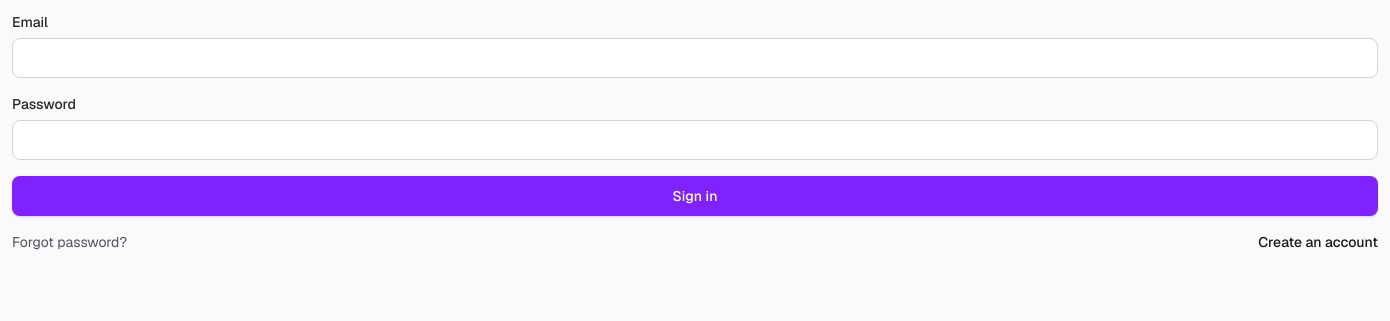
Scenario: LoginForm › shows the server message and clears the password on failure
In the field labelled "Email": [695, 58] box [12,38,1378,78], type "a@example.com"
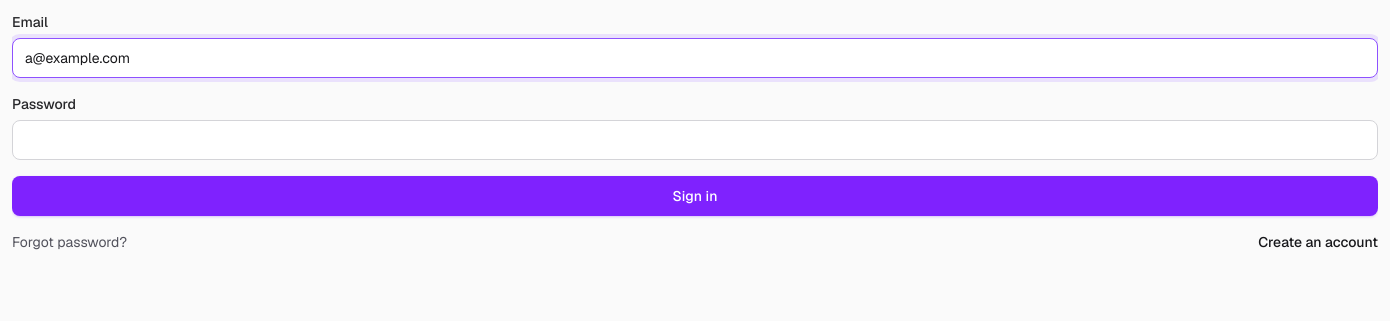
In the password field labelled "Password": [695, 140] box [12,120,1378,160], type "wrong"
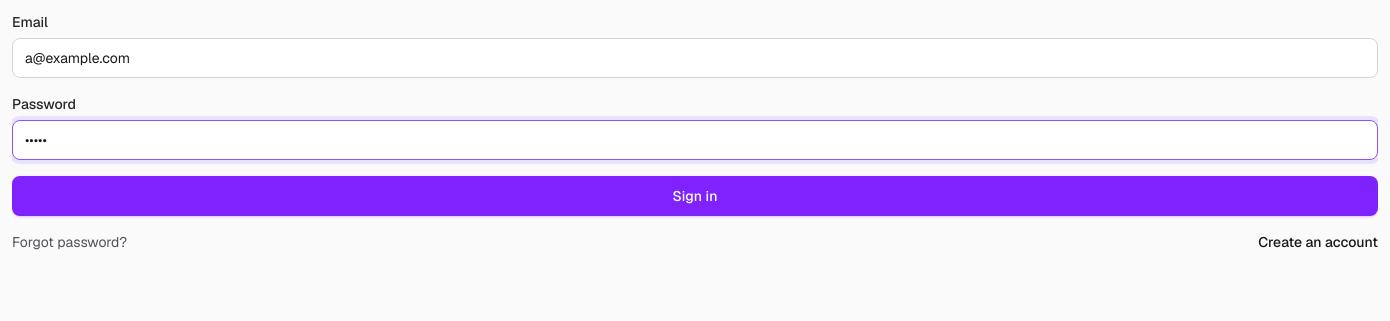
Click the button "Sign in": [695, 196] box [12,176,1378,216]
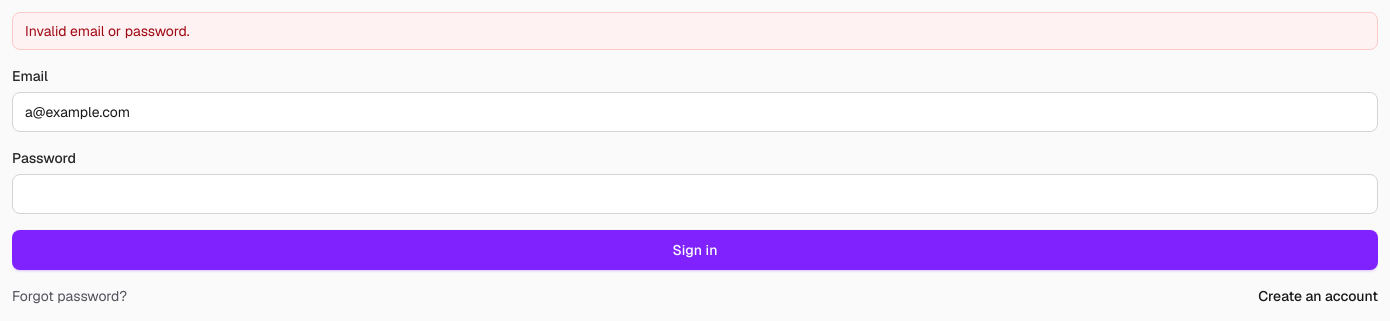
Expected: the message reads "Invalid email or password.", [25,22,190,40]
Expected: the password field labelled "Password" is empty, [12,174,1378,214]
